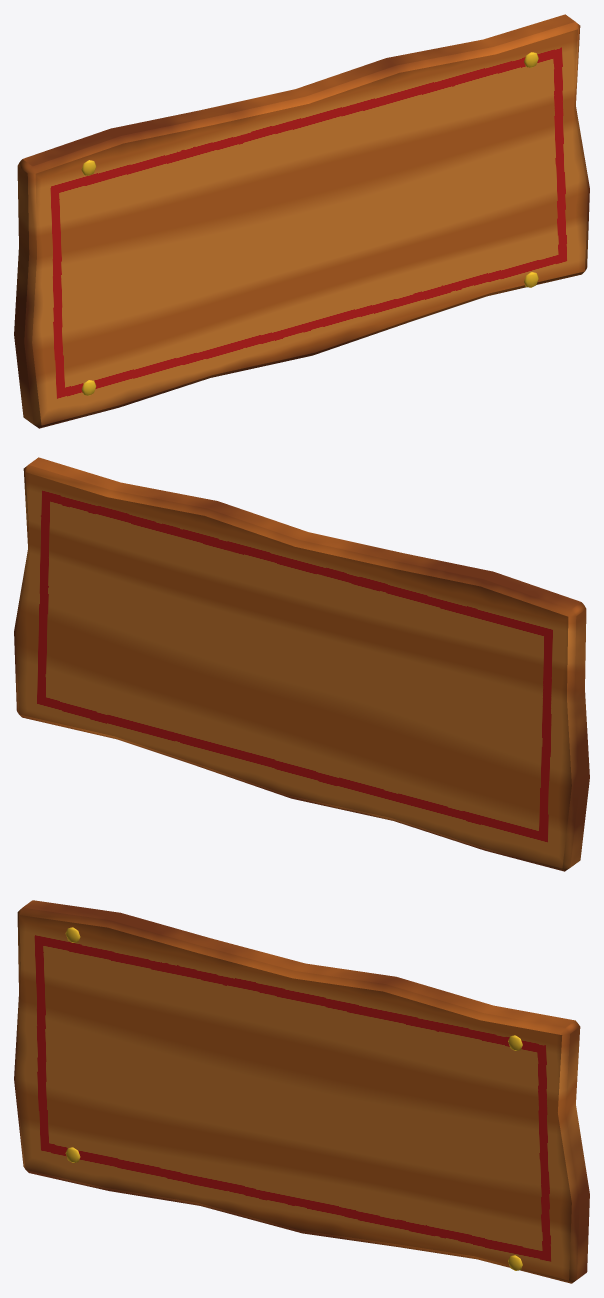
File: WoodenPlate.fbx
The picture shows the model from 3 angles, top to bottom: view 1: azimuth 30°, elevation 25°; view 2: azimuth 150°, elevation 25°; view 3: azimuth 330°, elevation 25°; orthographic projection.
Visible parts, largest first — view 1: Placa; view 2: Placa; view 3: Placa.
Boxes of the visible parts, x1,y1,x2,y2 form: Placa: [14, 14, 589, 428]; Placa: [14, 457, 589, 871]; Placa: [14, 900, 589, 1283].
Bounding box in the file's own units: 205 × 95.37 × 11.16.
1 material, 1 textured.
